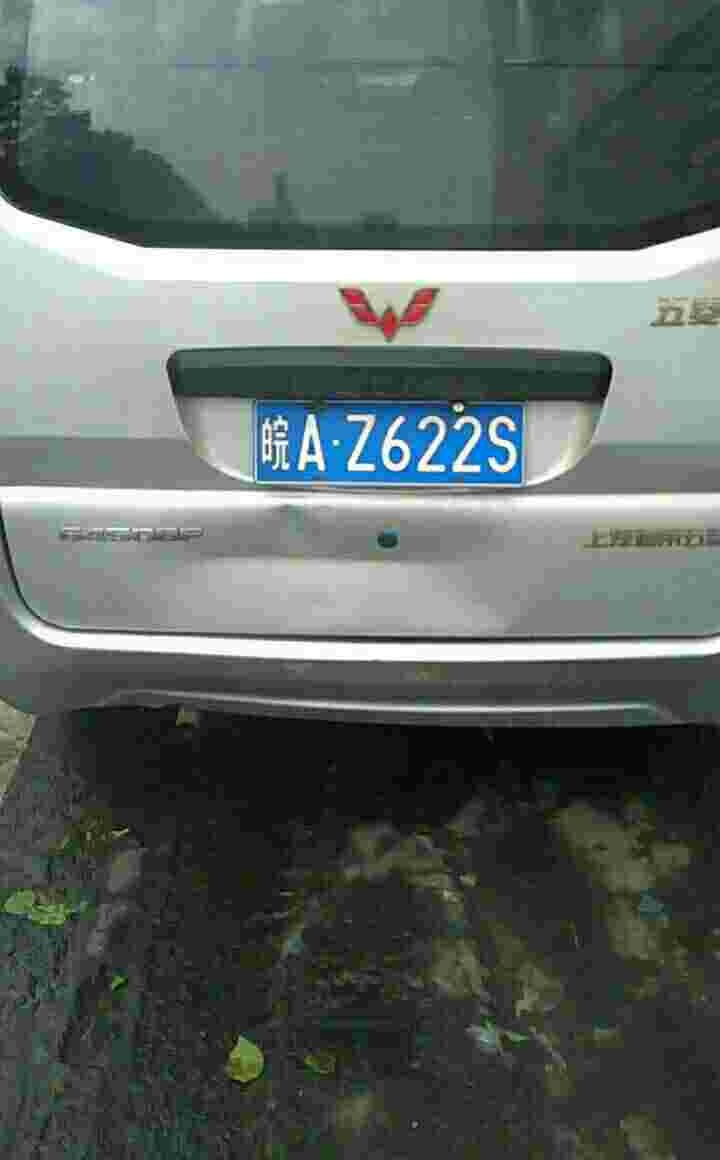license_plate: (249, 399, 518, 484)
